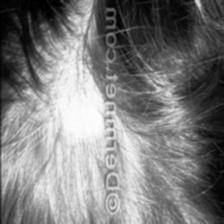Toxin: (57, 29, 103, 142)
